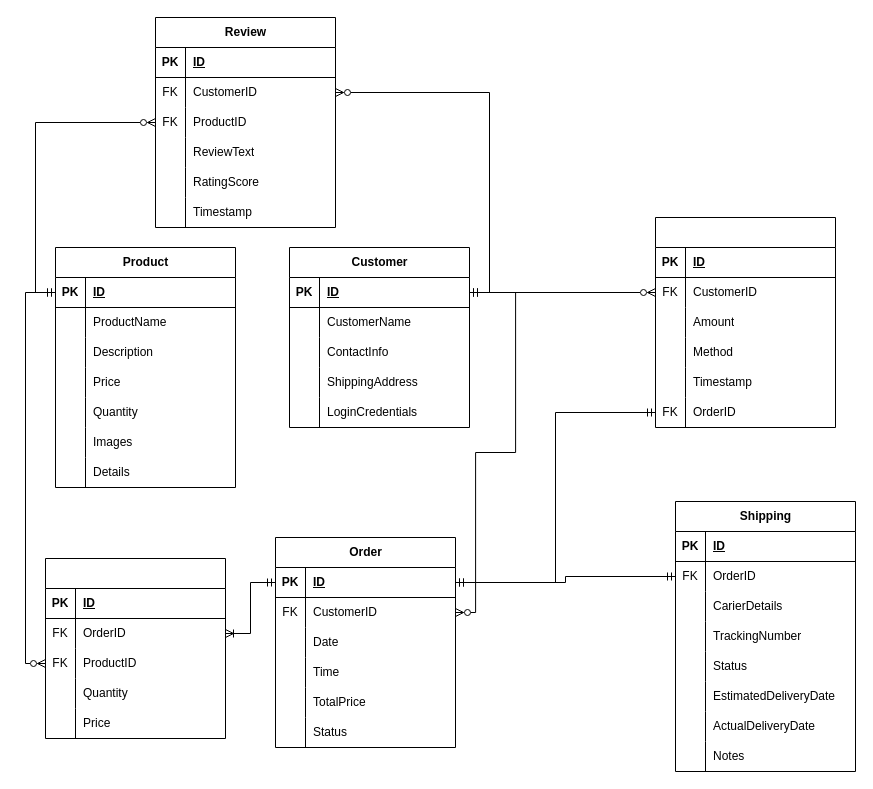
This 873x789 diagram has some shape labels left out. The shapes that lost their labels are listed below. From the top down, each one's box as (x1, y1, x2, y2) in pixels, then its label:
(654, 216, 836, 428): Payments
(44, 558, 226, 738): PurchasedProducts
